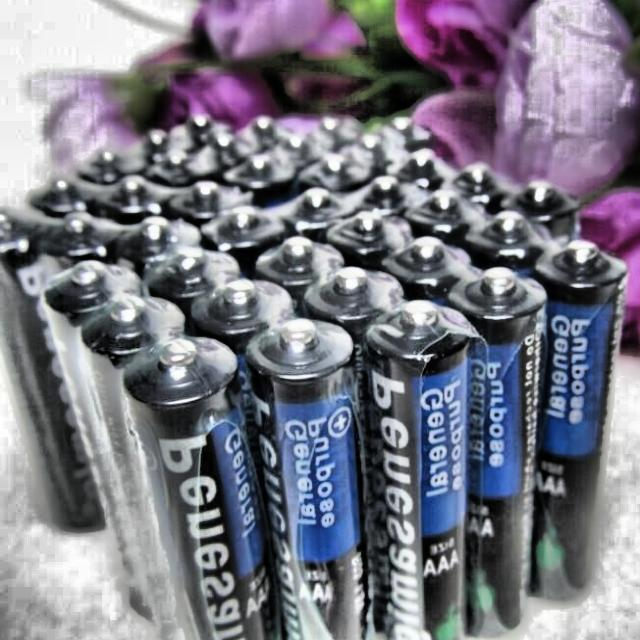Non-Valuable Waste - Batteries: (0, 115, 578, 606), (122, 337, 279, 640), (246, 318, 372, 640), (365, 301, 475, 640), (449, 268, 545, 637), (531, 240, 626, 600)
